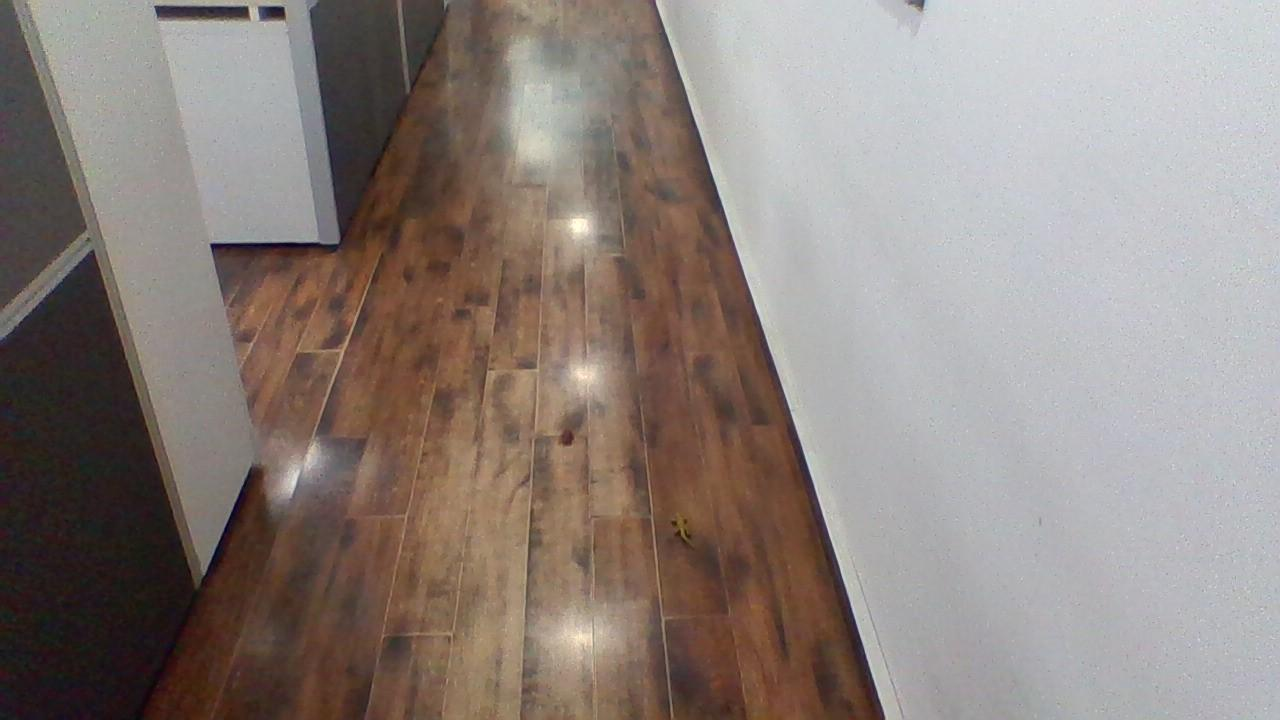cockroach: (552, 416, 588, 481)
lizard: (660, 507, 707, 551)
